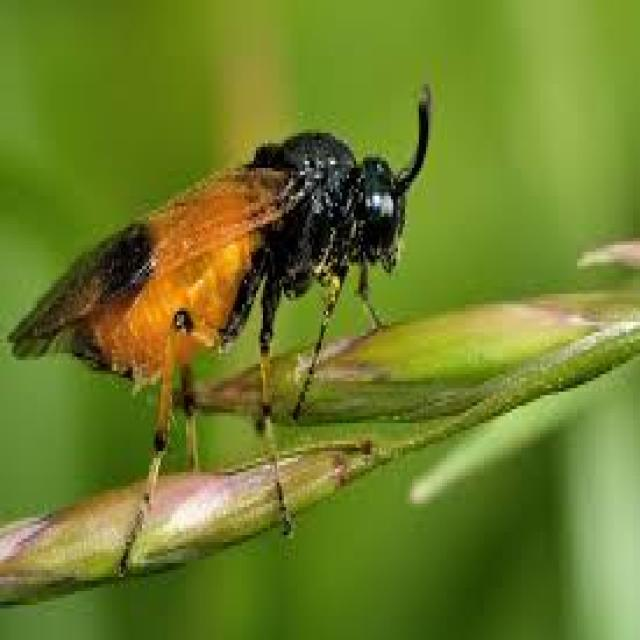Saw Fly: (8, 69, 440, 592)
